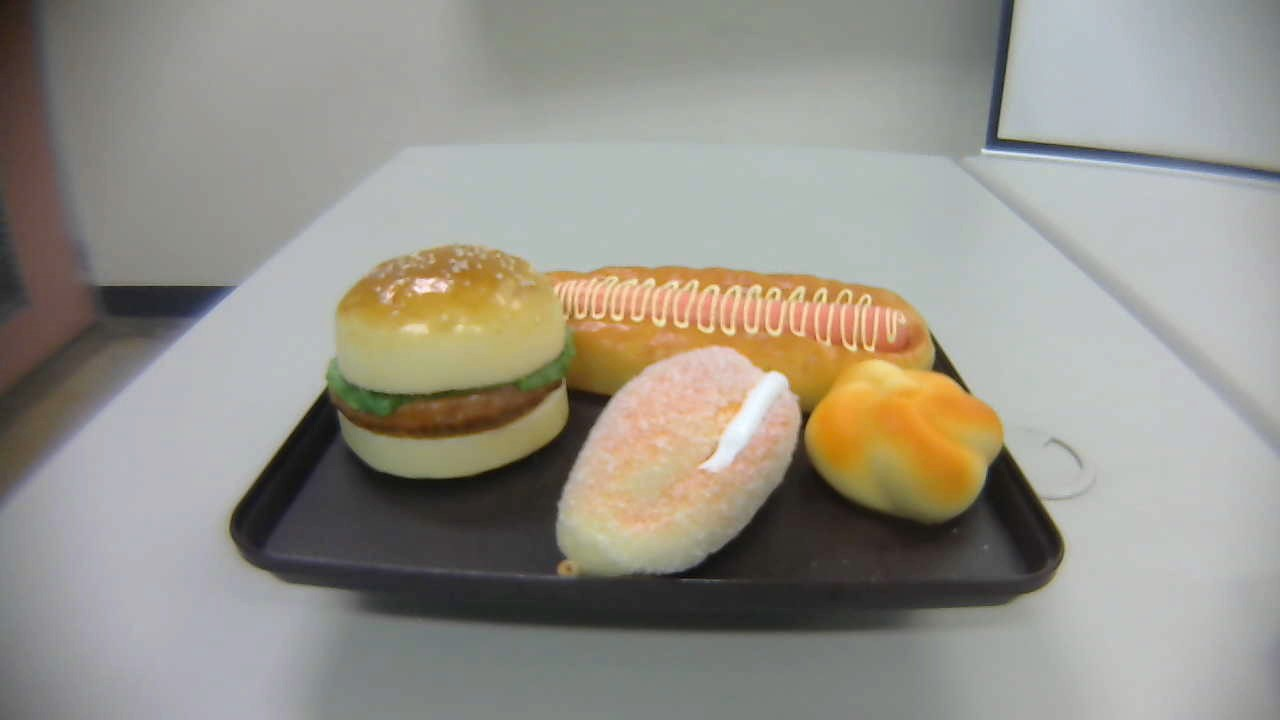coconut: (556, 344, 802, 581)
hamburger: (325, 241, 573, 481)
hot dog: (527, 263, 935, 414)
twist bread: (805, 358, 1006, 526)
